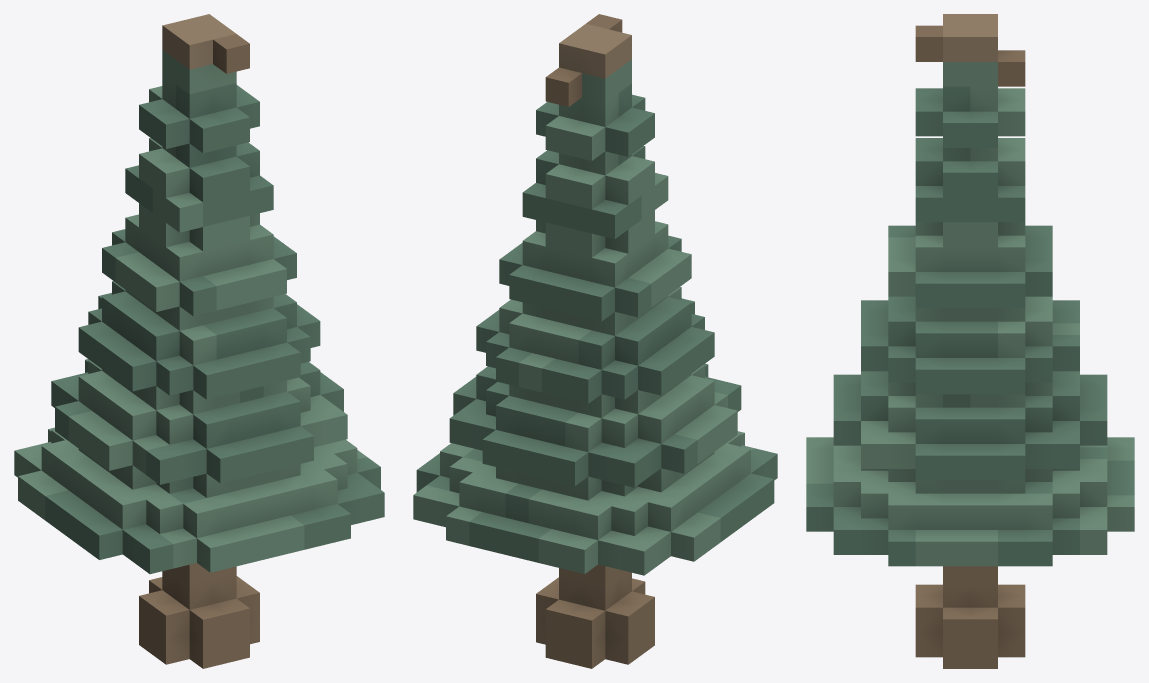
Rendered from grand_pin_1.glb.
3 views of the same model, side by side, from view 1: azimuth 30°, elevation 25°; view 2: azimuth 150°, elevation 25°; view 3: azimuth 270°, elevation 25° (orthographic). The views are drawn at different scales.
Parts seen in each view (by area): view 1: geometry_0; view 2: geometry_0; view 3: geometry_0.
Part boxes in pixels (left/top/right/bottom): geometry_0: left=14, top=14, right=384, bottom=668; geometry_0: left=413, top=14, right=777, bottom=668; geometry_0: left=806, top=14, right=1134, bottom=668.
Bounding box in the file's own units: 3 × 6.25 × 3.
